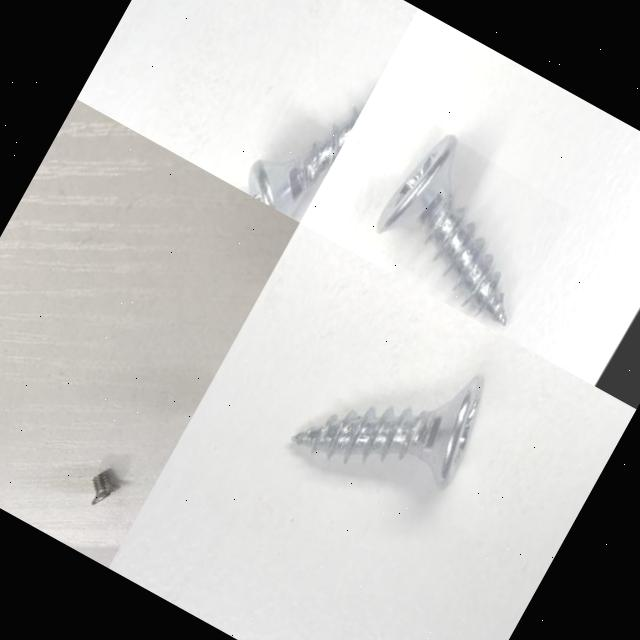Screw: (376, 137, 506, 326), (290, 377, 484, 491), (248, 113, 361, 218), (75, 460, 128, 518)
